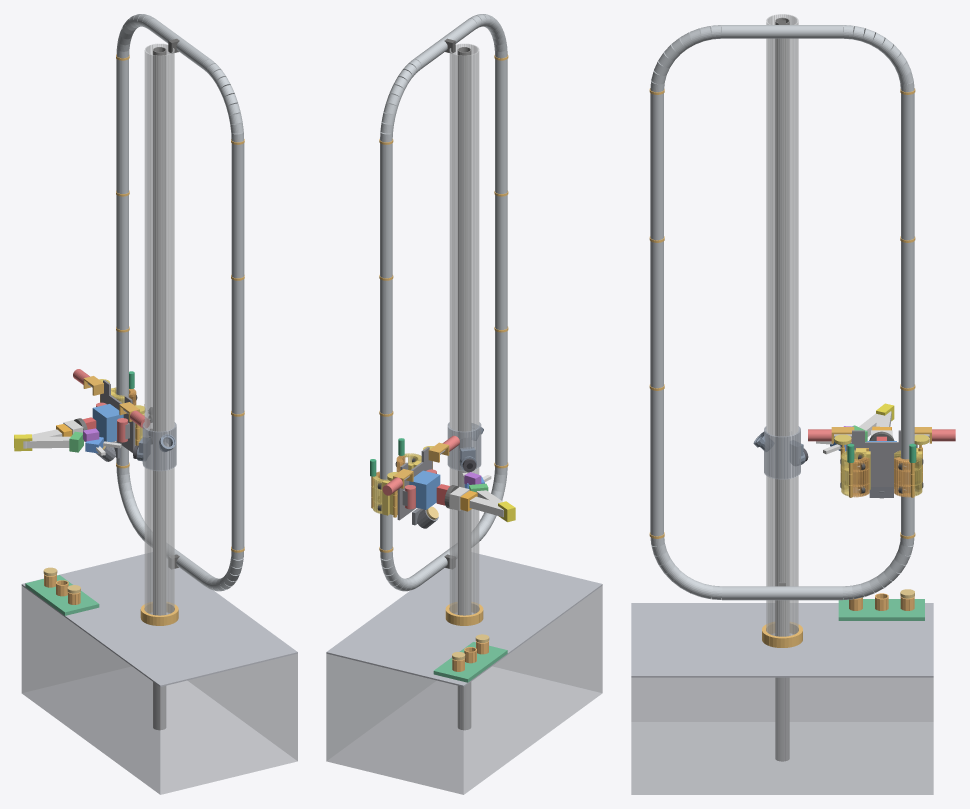
Rendered from transplant-seedling-step3-plug-v5.glb.
3 views of the same model, side by side, from view 1: azimuth 30°, elevation 25°; view 2: azimuth 150°, elevation 25°; view 3: azimuth 270°, elevation 25° (orthographic). The views are drawn at different scales.
Bounding box in the file's own units: 0.4858 × 1.9 × 0.751.
